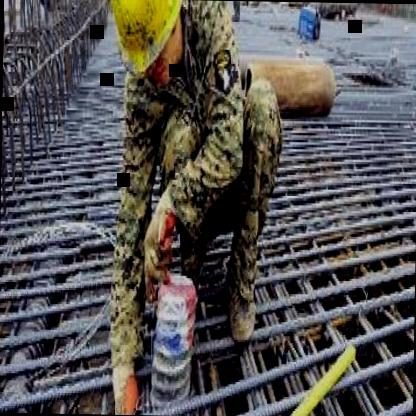helmet: (99, 0, 197, 100)
